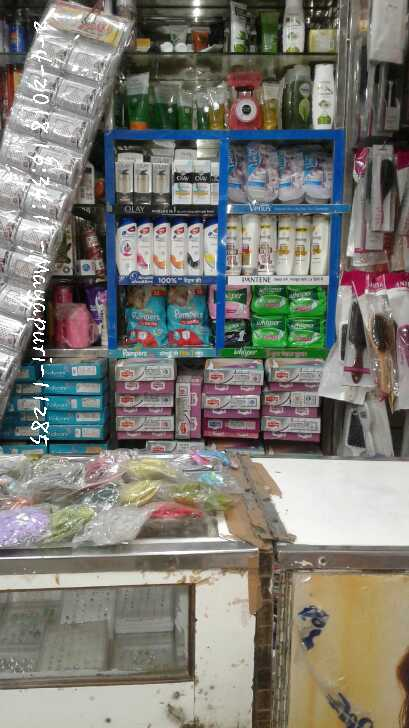venus: (304, 142, 333, 201), (248, 143, 277, 201), (277, 142, 304, 201), (229, 143, 248, 201)
